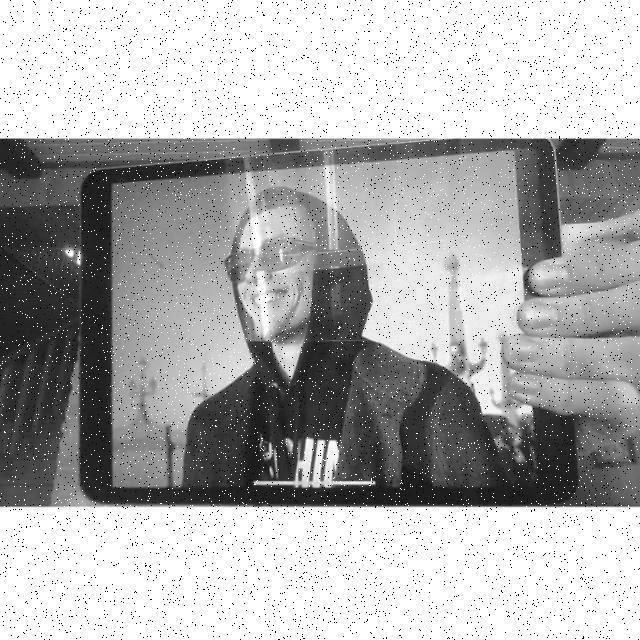fake: (78, 144, 572, 506)
